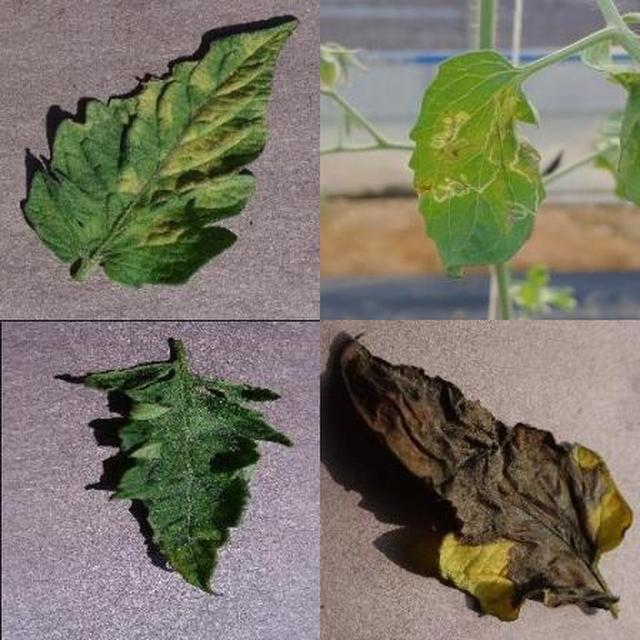Leaf Mold: (200, 220, 640, 640)
